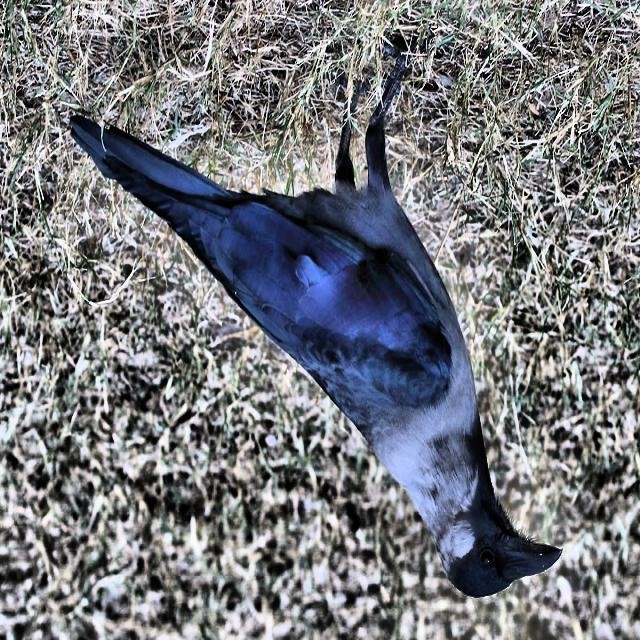crow: (68, 46, 588, 603)
